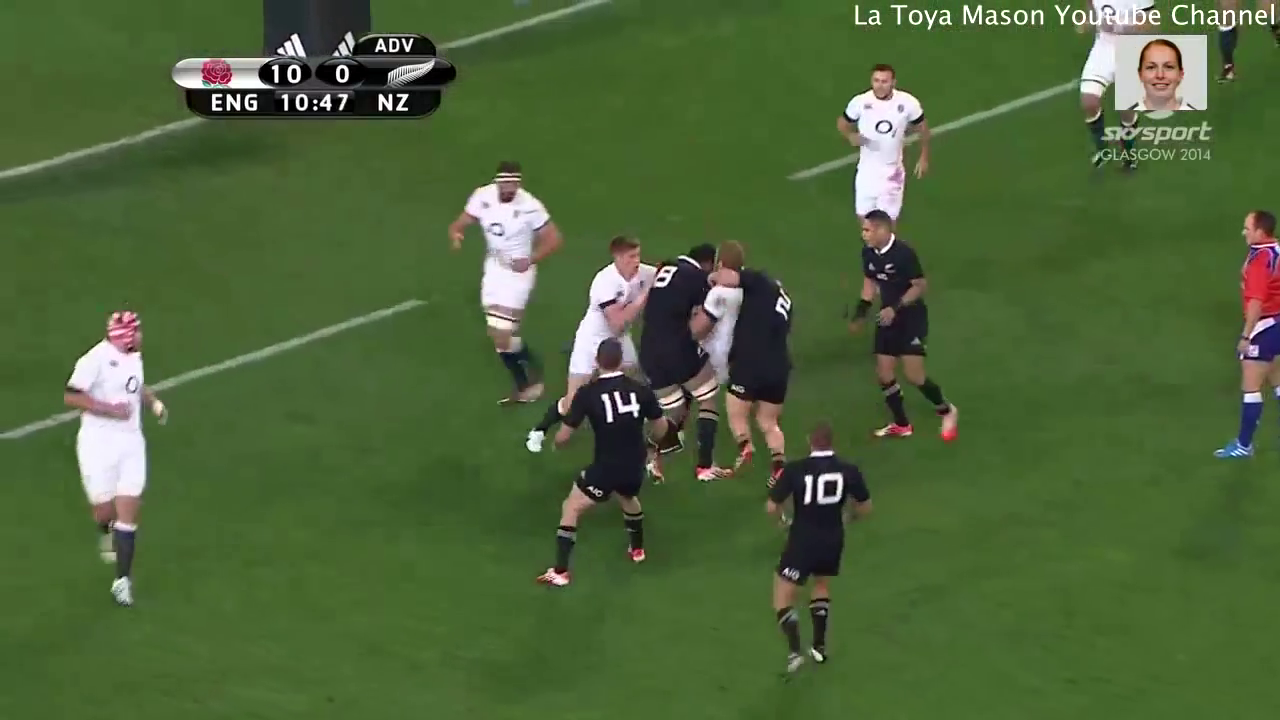maul: (573, 214, 813, 508)
player: (526, 323, 673, 598), (838, 206, 986, 456), (59, 300, 179, 604), (437, 154, 573, 416), (748, 415, 881, 681), (625, 227, 729, 506), (546, 224, 671, 436), (822, 48, 938, 256), (1194, 200, 1280, 480), (720, 251, 804, 504), (1069, 1, 1149, 180), (683, 239, 752, 385)
